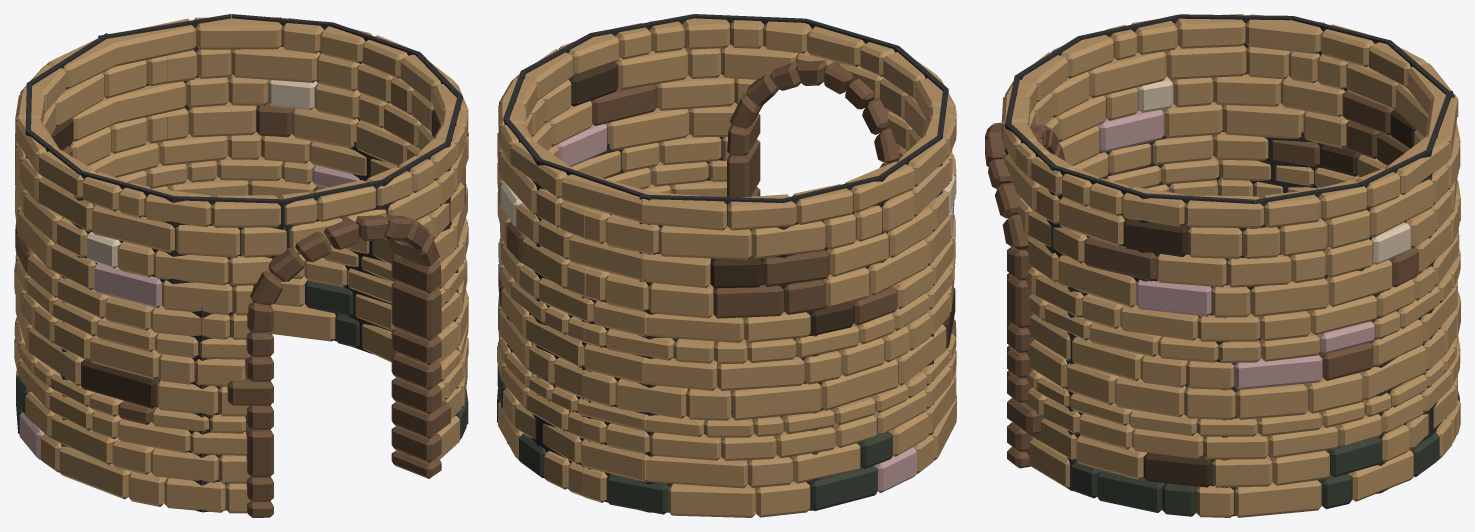
The model's file is tower-doorway.glb.
3 views of the same model, side by side, from view 1: azimuth 30°, elevation 25°; view 2: azimuth 150°, elevation 25°; view 3: azimuth 270°, elevation 25° (orthographic).
Parts seen in each view (by area): view 1: Wall.282, Wall.278, Wall.583; view 2: Wall.282, Wall.583, Wall.278; view 3: Wall.282, Wall.583, Wall.278.
Part boxes in pixels (x1=…): Wall.282: x1=14, y1=17, x2=468, y2=513; Wall.278: x1=227, y1=214, x2=450, y2=517; Wall.583: x1=25, y1=14, x2=462, y2=512; Wall.282: x1=497, y1=17, x2=956, y2=517; Wall.583: x1=503, y1=14, x2=948, y2=512; Wall.278: x1=727, y1=60, x2=900, y2=197; Wall.282: x1=1001, y1=14, x2=1460, y2=517; Wall.583: x1=1005, y1=14, x2=1454, y2=516; Wall.278: x1=985, y1=122, x2=1065, y2=468.
Size of the model in its own units: 2 by 1.51 by 2.06.
